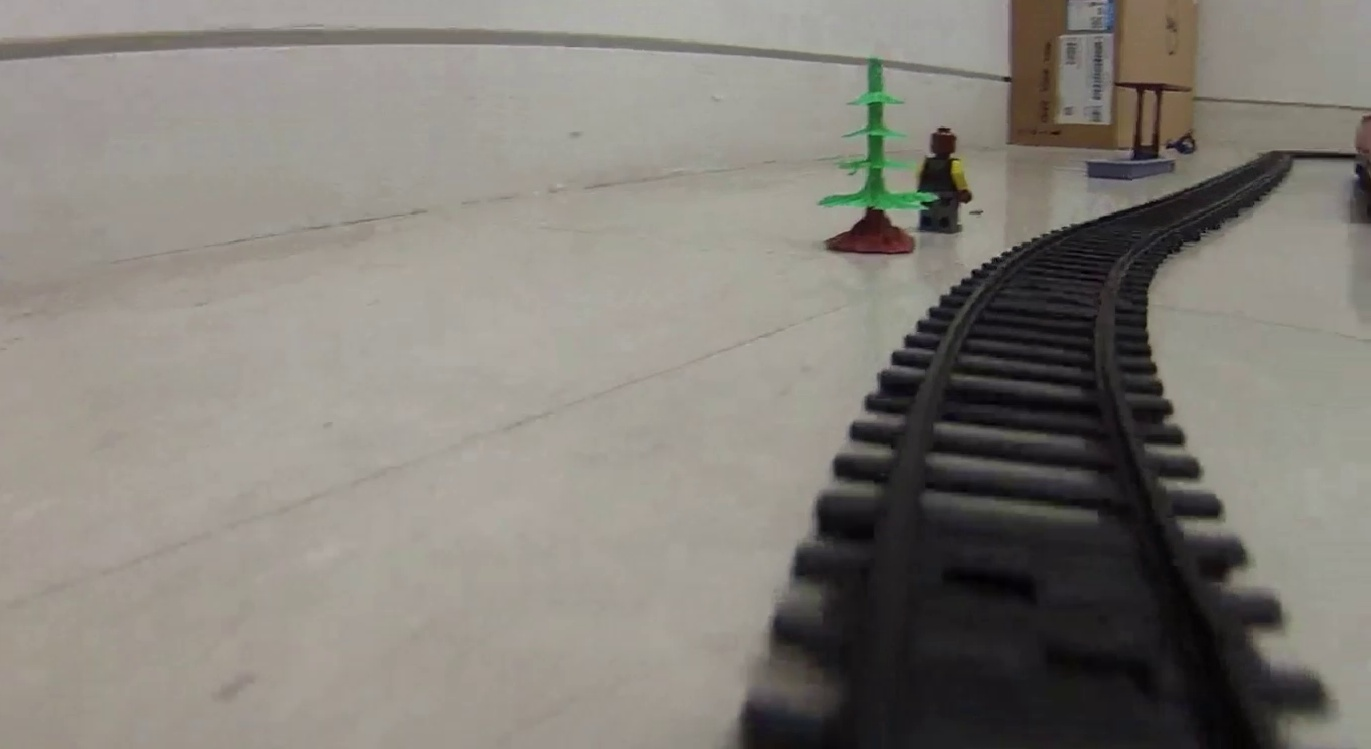people: (920, 124, 972, 235)
tree: (818, 57, 918, 255)
